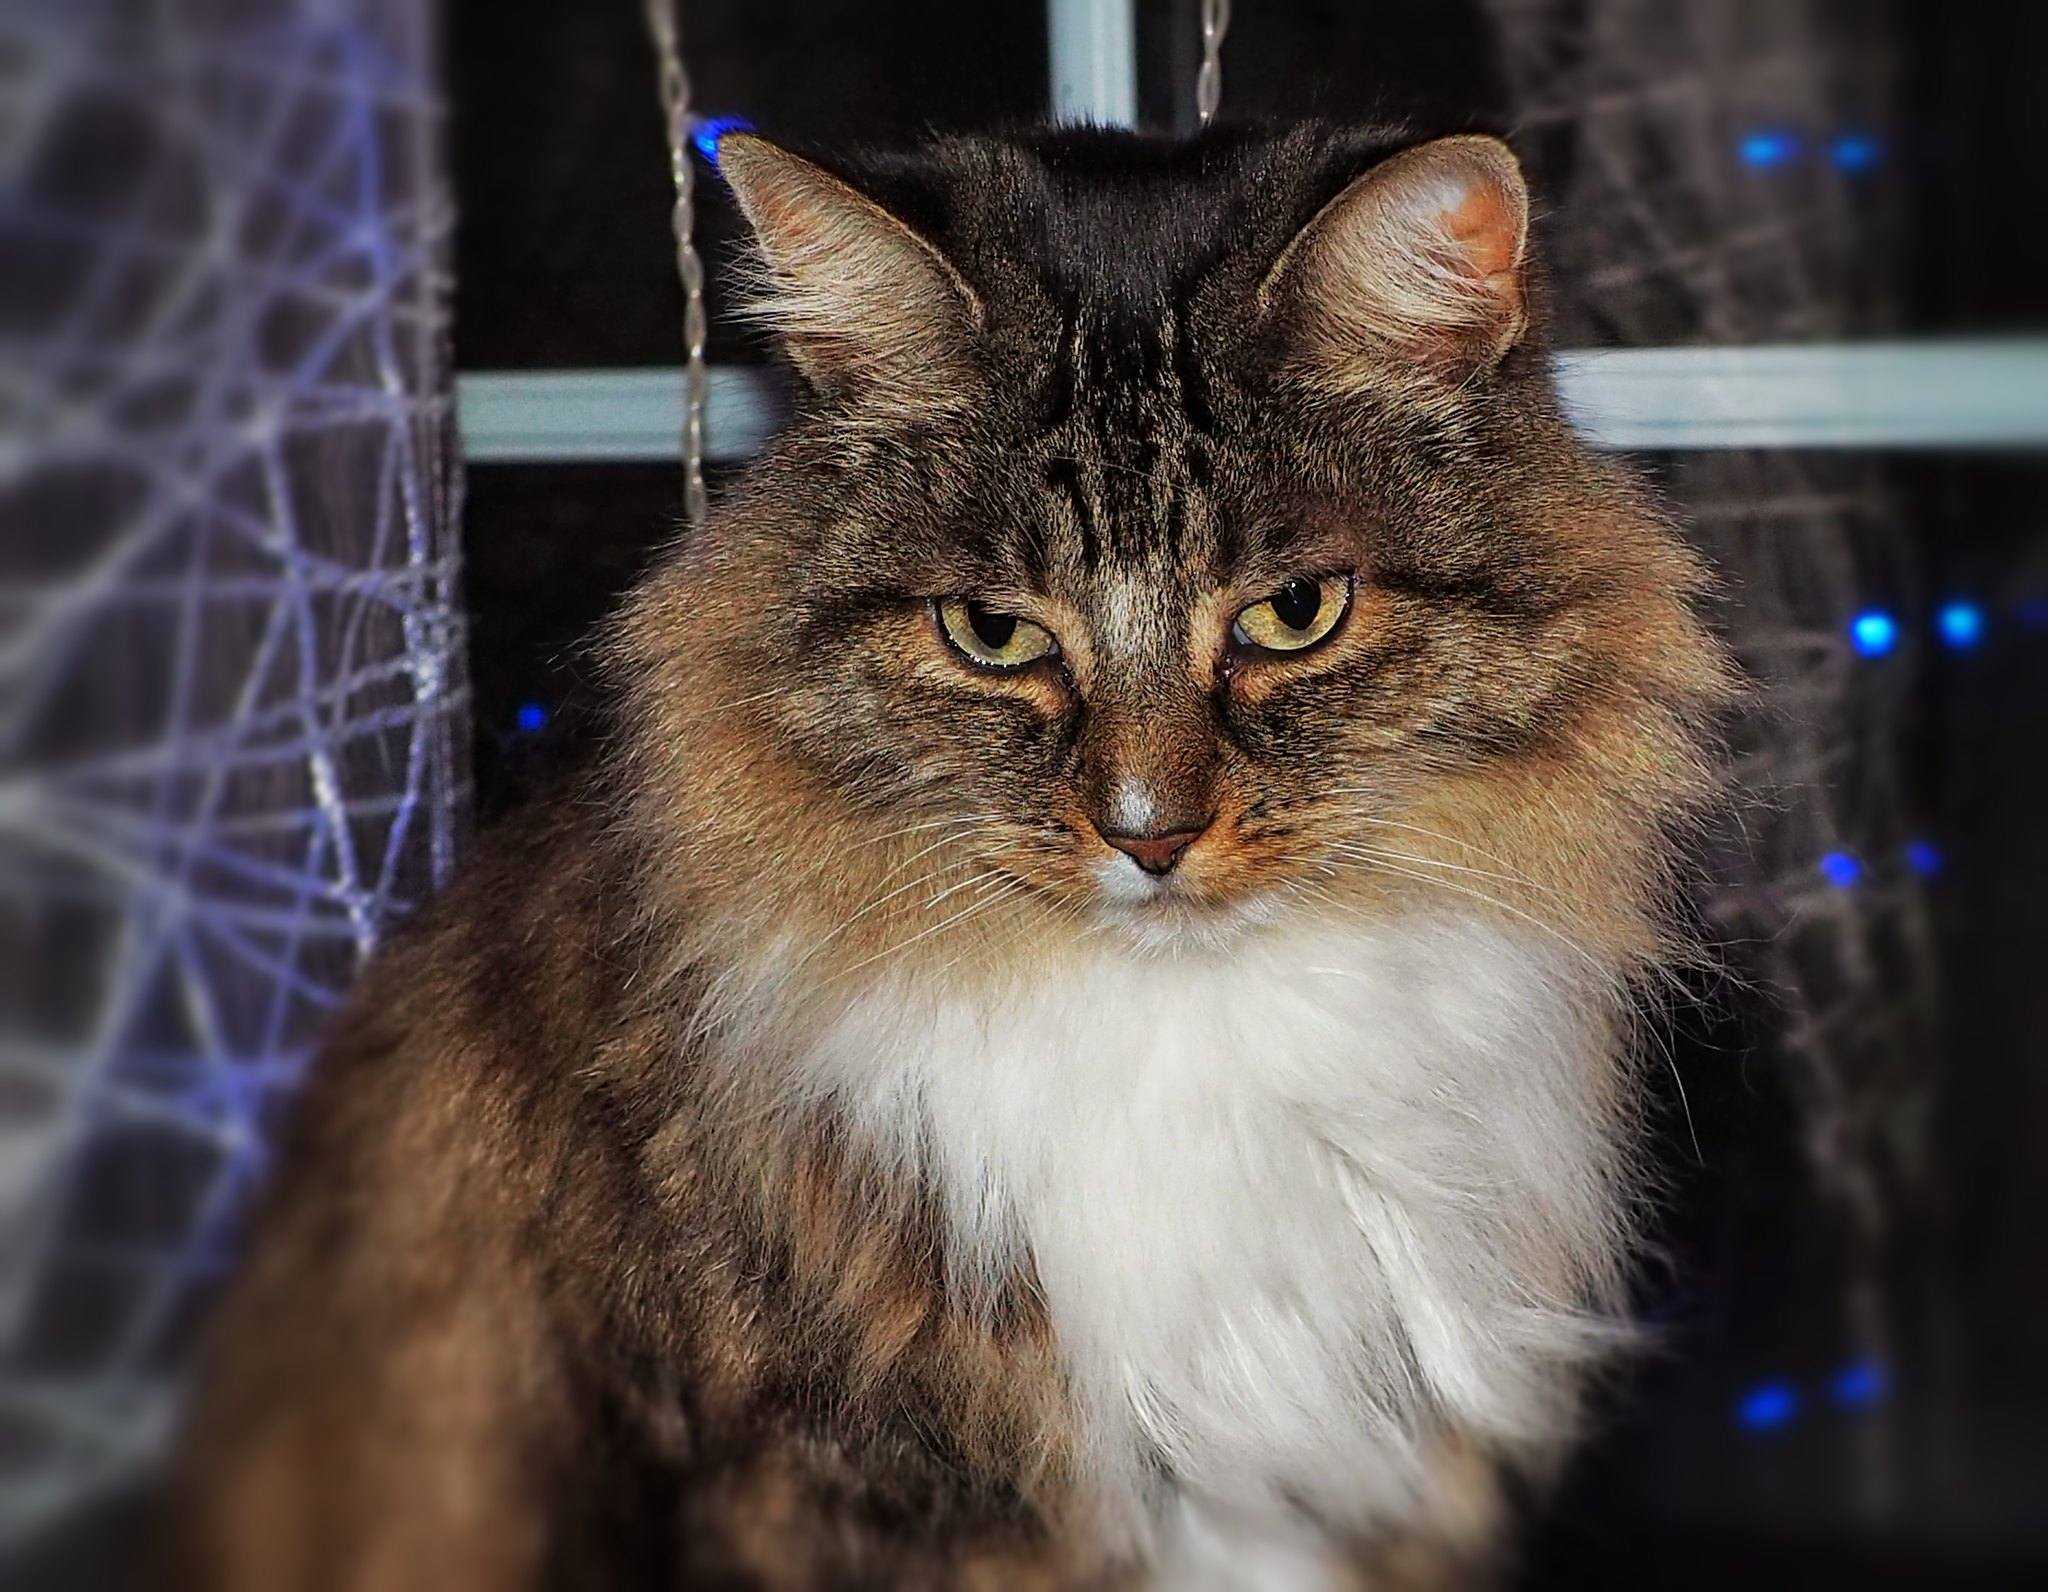cat: (194, 90, 1716, 1592)
